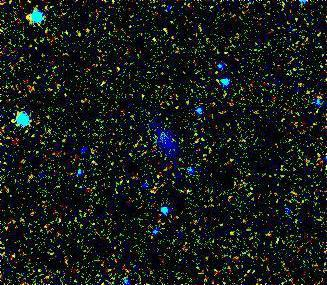star: (12, 2, 42, 32)
